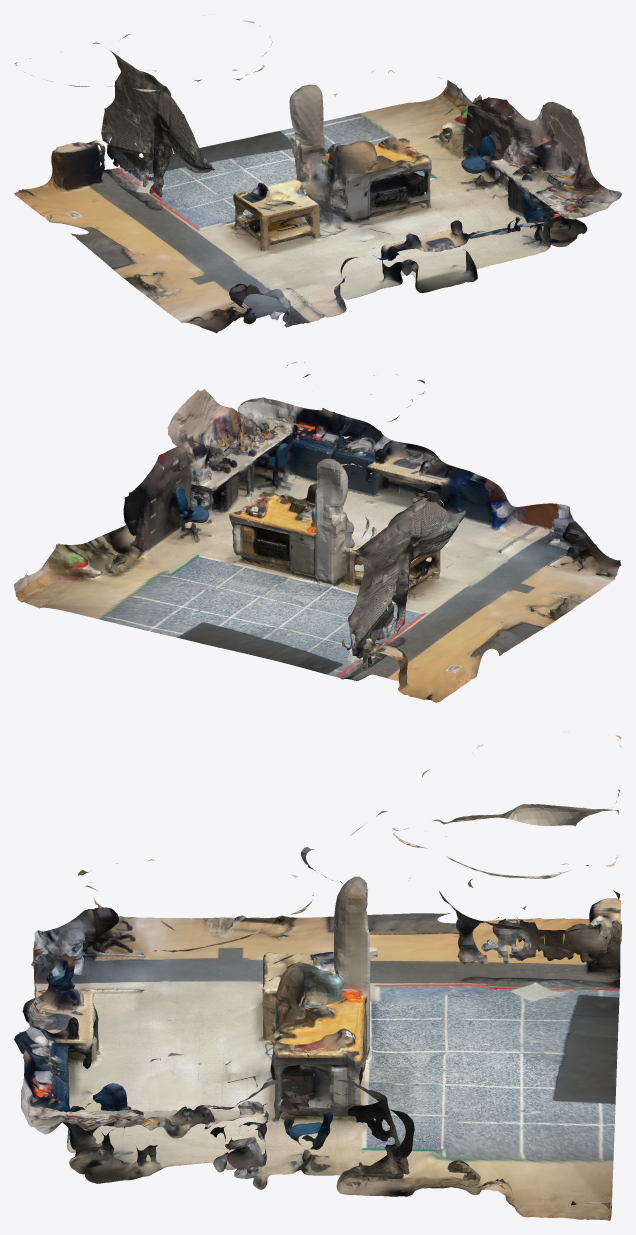
The model's file is arena_workshop.glb.
3 renders of one model, top to bottom at view 1: azimuth 30°, elevation 25°; view 2: azimuth 150°, elevation 25°; view 3: azimuth 270°, elevation 25°, orthographic. The views are drawn at different scales.
Size of the model in its own units: 8.82 by 2.84 by 7.49.
2 materials, 2 textured.
